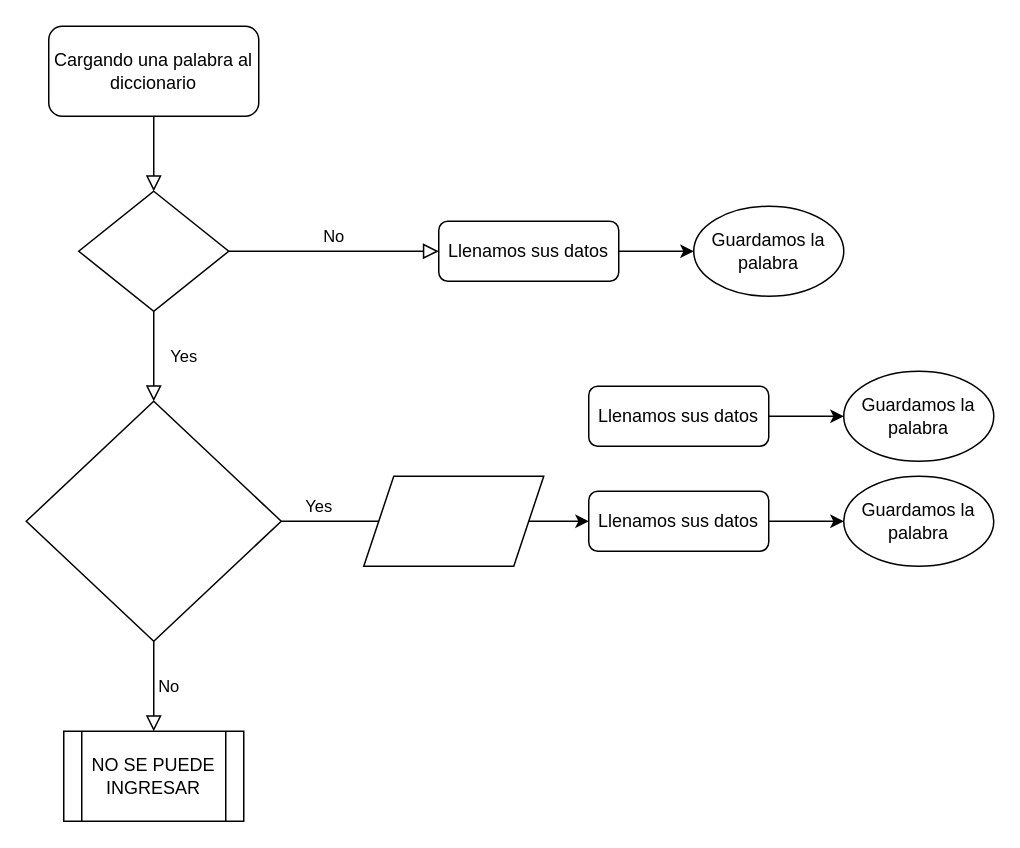
Some shapes in this 1020 by 848 pixel diagram are drawn without their labels. The box of each missing label's shape, as (x1, y1, x2, y2) in pixels:
PERMITIDO INGRESAR: (362, 475, 544, 566)
¿Esta repetida?: (77, 190, 229, 311)
¿Tiene un significado o definición distinta a la ya existente?: (25, 400, 281, 641)
